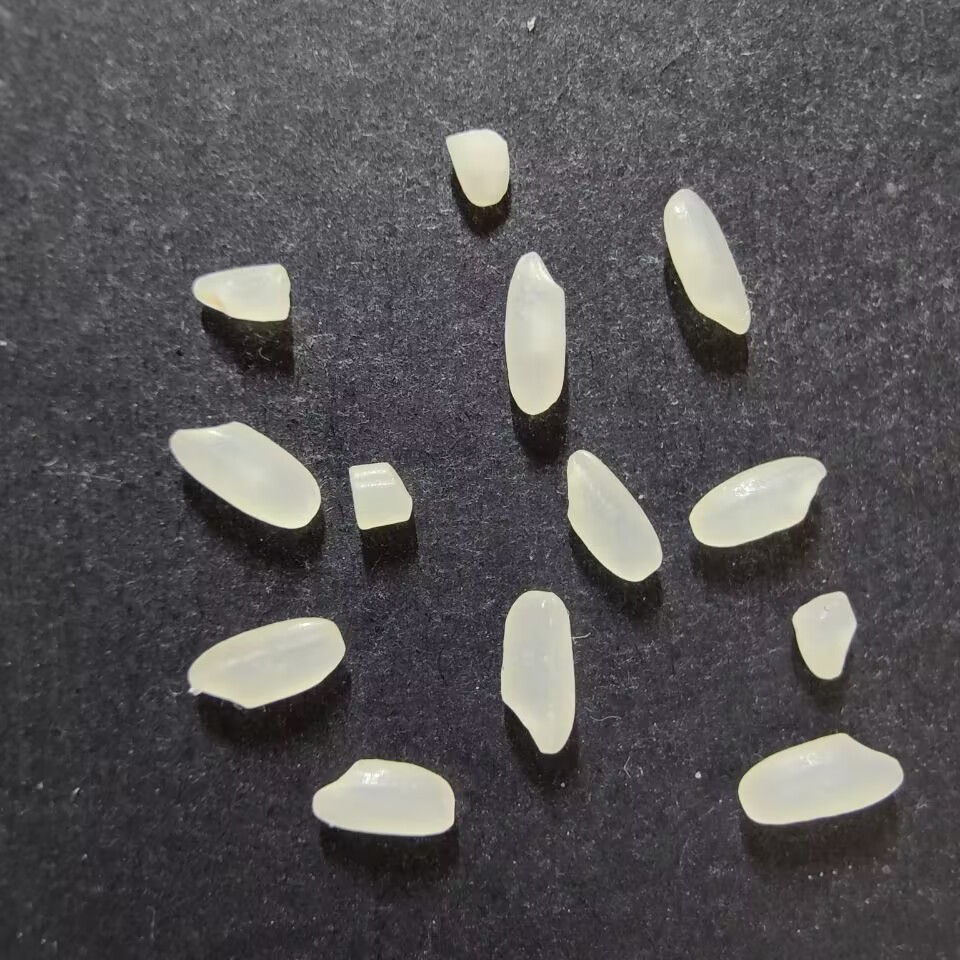broken: (791, 590, 857, 681), (191, 263, 290, 323), (444, 128, 510, 208), (347, 462, 414, 531)
rice: (168, 421, 320, 529), (737, 732, 903, 826), (187, 616, 346, 709), (662, 186, 751, 336), (565, 448, 663, 582), (688, 454, 826, 547), (499, 589, 575, 755), (311, 758, 456, 836), (503, 250, 566, 415)
